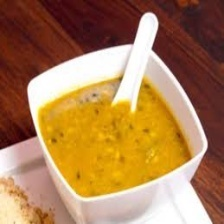dal: (32, 71, 202, 204)
